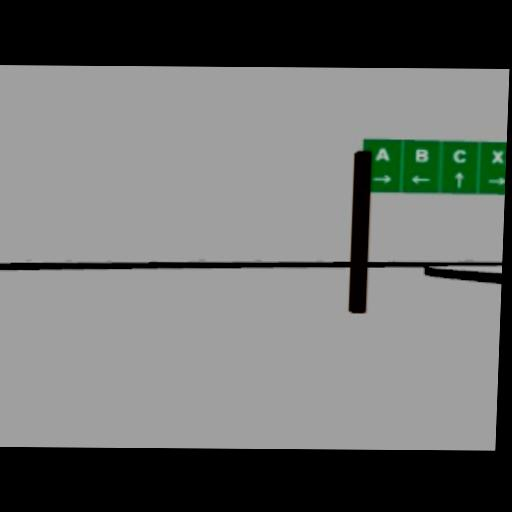A: (374, 146, 389, 160)
B: (414, 148, 429, 162)
C: (452, 148, 467, 162)
Left: (410, 174, 431, 184)
Right: (372, 174, 391, 184), (486, 176, 506, 185)
Straight: (454, 171, 463, 188)
X: (491, 149, 504, 163)
